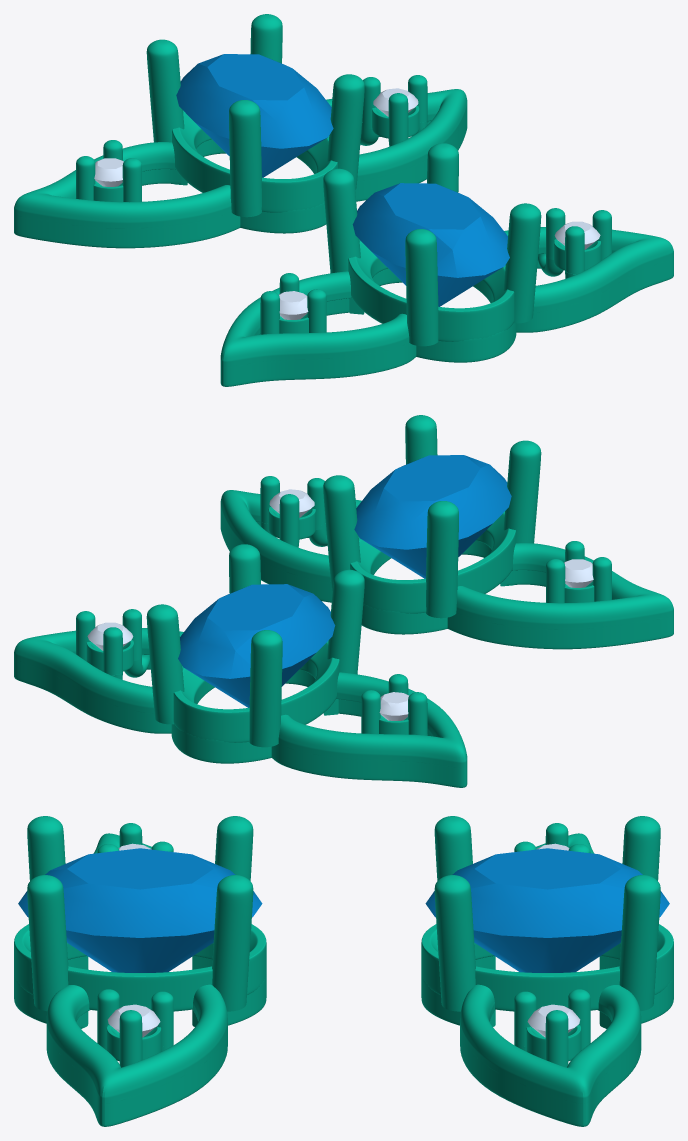
3 renders of one model, top to bottom at view 1: azimuth 30°, elevation 25°; view 2: azimuth 150°, elevation 25°; view 3: azimuth 270°, elevation 25°, orthographic. The views are drawn at different scales.
Parts seen in each view (by area): view 1: JewelCAD (×37); view 2: JewelCAD (×37); view 3: JewelCAD (×32).
Boxes of the visible parts, x1,y1,x2,y2 form: JewelCAD (×37): (14, 14, 673, 386); JewelCAD (×37): (14, 415, 673, 787); JewelCAD (×32): (14, 816, 673, 1126).
Size of the model in its own units: 2.65 by 0.7383 by 2.9.
